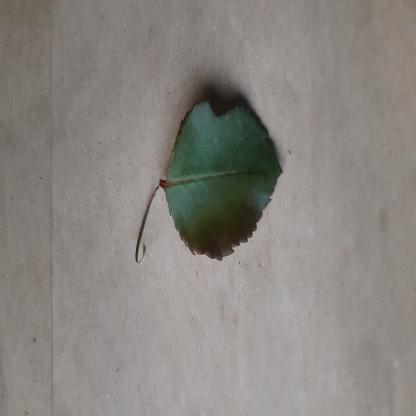normal: (164, 94, 283, 264)
